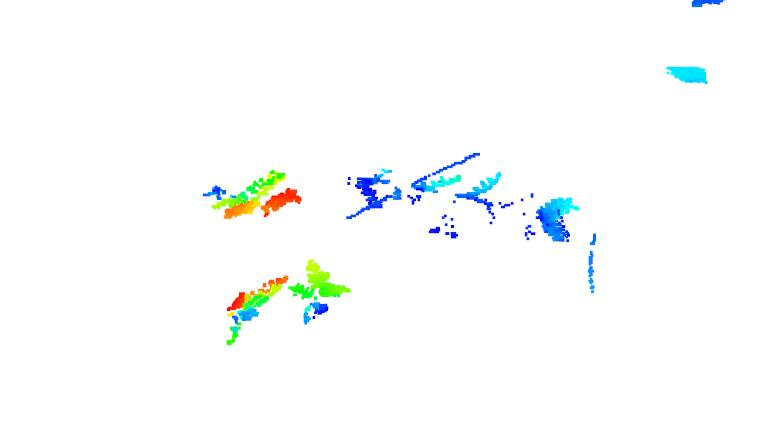chickpea: (200, 157, 311, 220), (221, 275, 293, 345), (292, 260, 356, 327)
